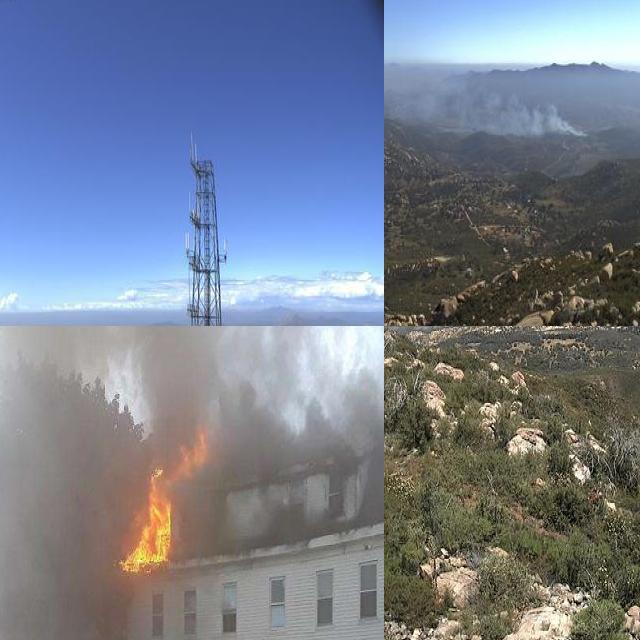fire: (117, 434, 208, 570)
smoke: (0, 326, 384, 640), (408, 79, 588, 144)
